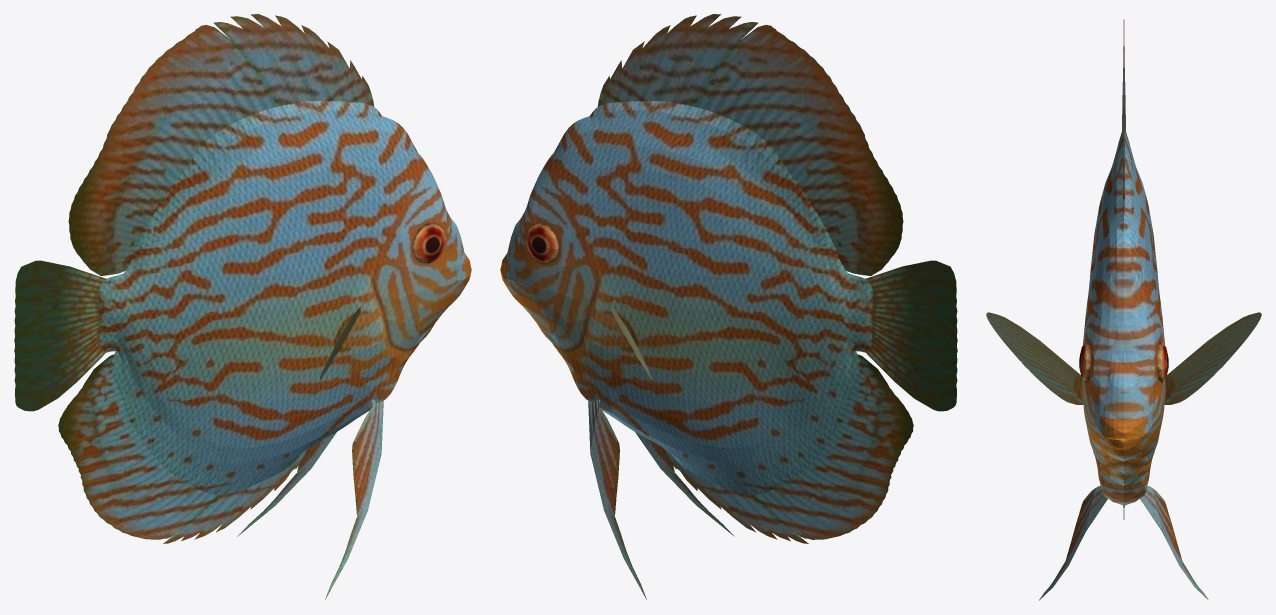
Rendered from discus.glb.
3 renders of one model, left to right at view 1: azimuth 30°, elevation 25°; view 2: azimuth 150°, elevation 25°; view 3: azimuth 270°, elevation 25°, orthographic. The views are drawn at different scales.
Visible parts, largest first — view 1: discus; view 2: discus; view 3: discus.
Boxes of the visible parts, <box> form: discus: <box>14,14,471,599</box>; discus: <box>500,14,957,599</box>; discus: <box>986,19,1261,600</box>.
Bounding box in the file's own units: 1 × 1.19 × 0.5377.
Materials: 1 (1 with a texture image).
